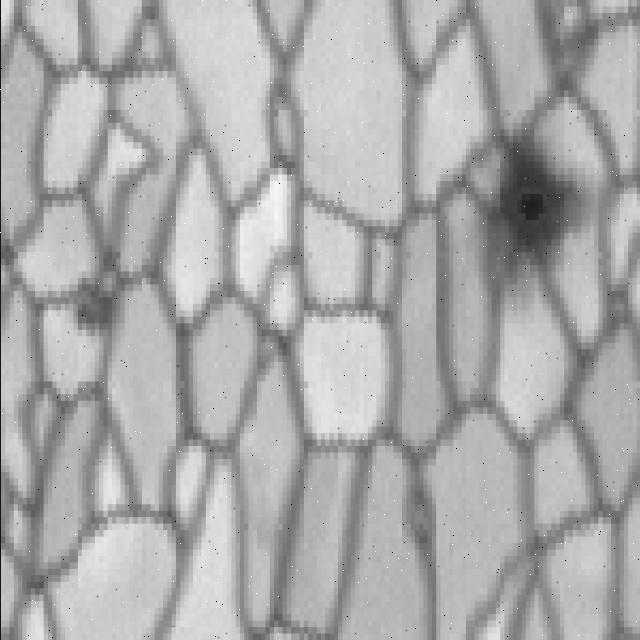good_void: (484, 116, 576, 278), (395, 467, 451, 562), (67, 254, 125, 337), (542, 0, 593, 78)
